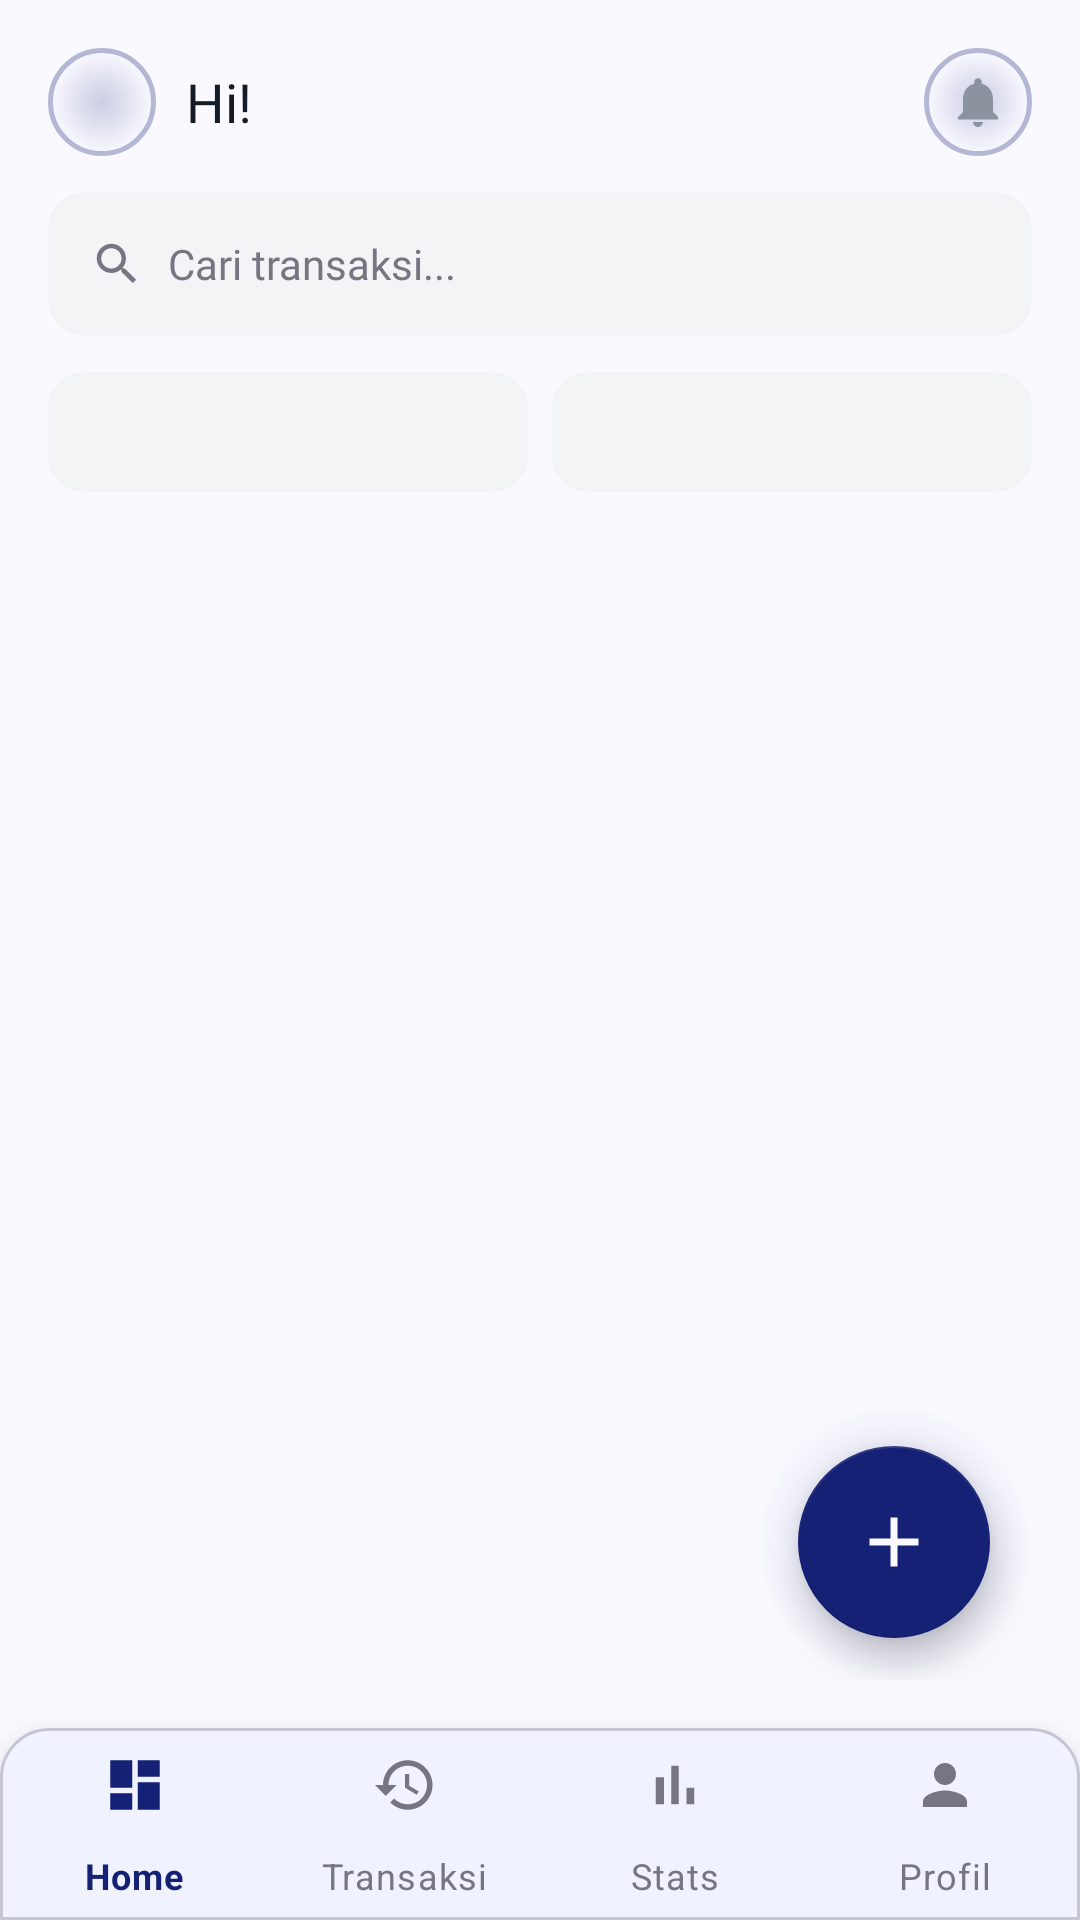

Screen size 1080*1920. Icon name, then its center in pixels as (x,y):
bell: (978,102)
search: (116,263)
Tambah Transaksi: (894,1542)
